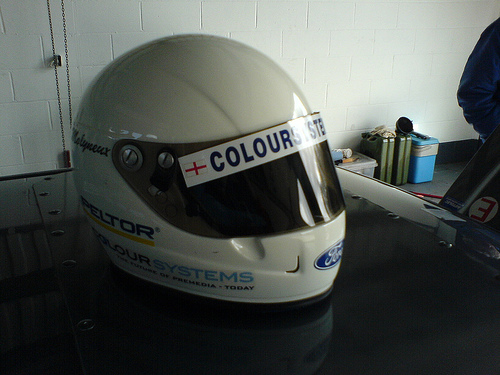helmet: (77, 53, 369, 288)
